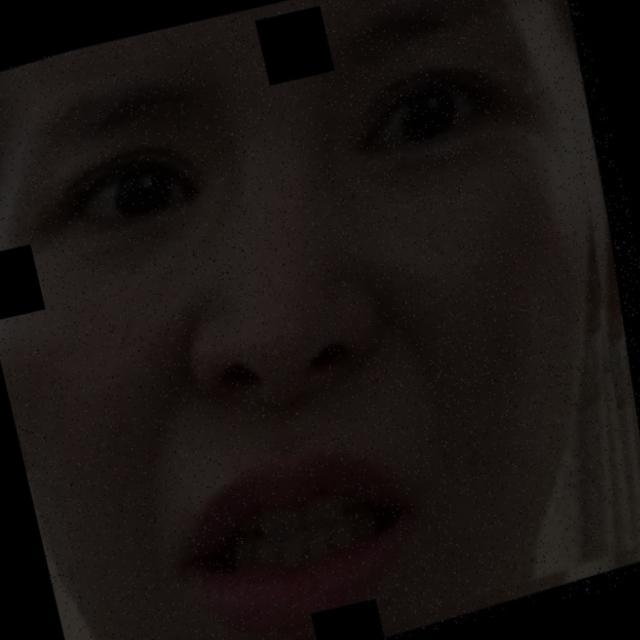Angry: (7, 0, 639, 595)
